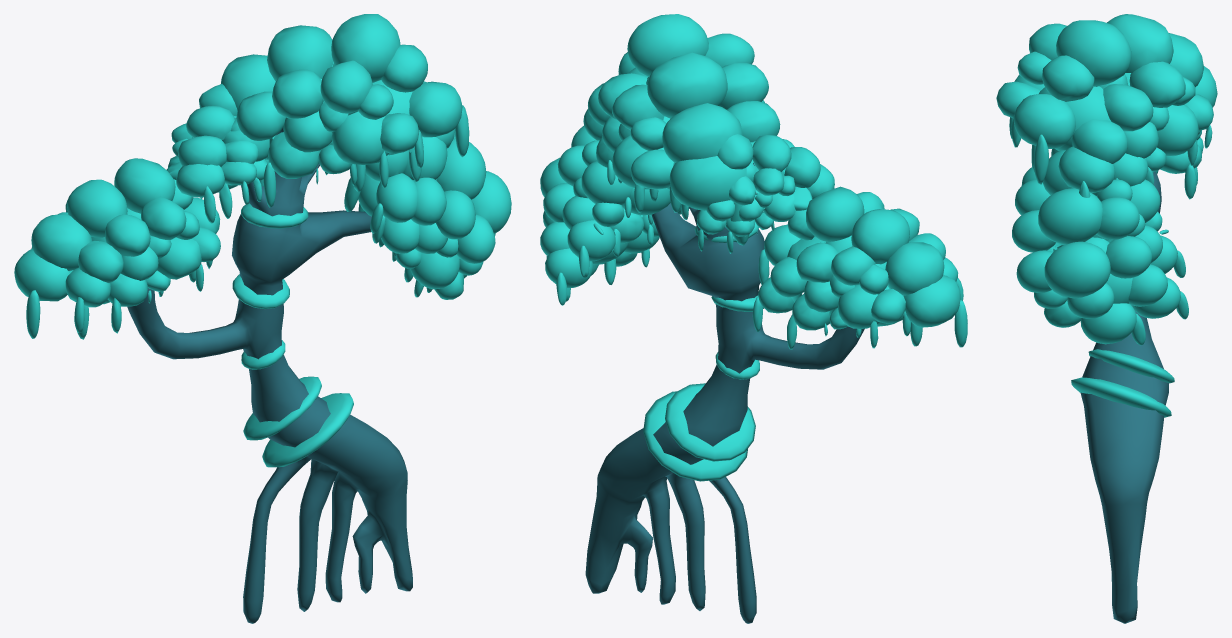
The model's file is arbre1Fantasy.fbx.
3 renders of one model, left to right at view 1: azimuth 30°, elevation 25°; view 2: azimuth 150°, elevation 25°; view 3: azimuth 270°, elevation 25°, orthographic. The views are drawn at different scales.
Parts seen in each view (by area): view 1: Cube; view 2: Cube; view 3: Cube.
Boxes of the visible parts, x1,y1,x2,y2 form: Cube: (14,14,511,623); Cube: (540,14,967,623); Cube: (996,14,1217,623).
Bounding box in the file's own units: 505 × 631 × 220.
